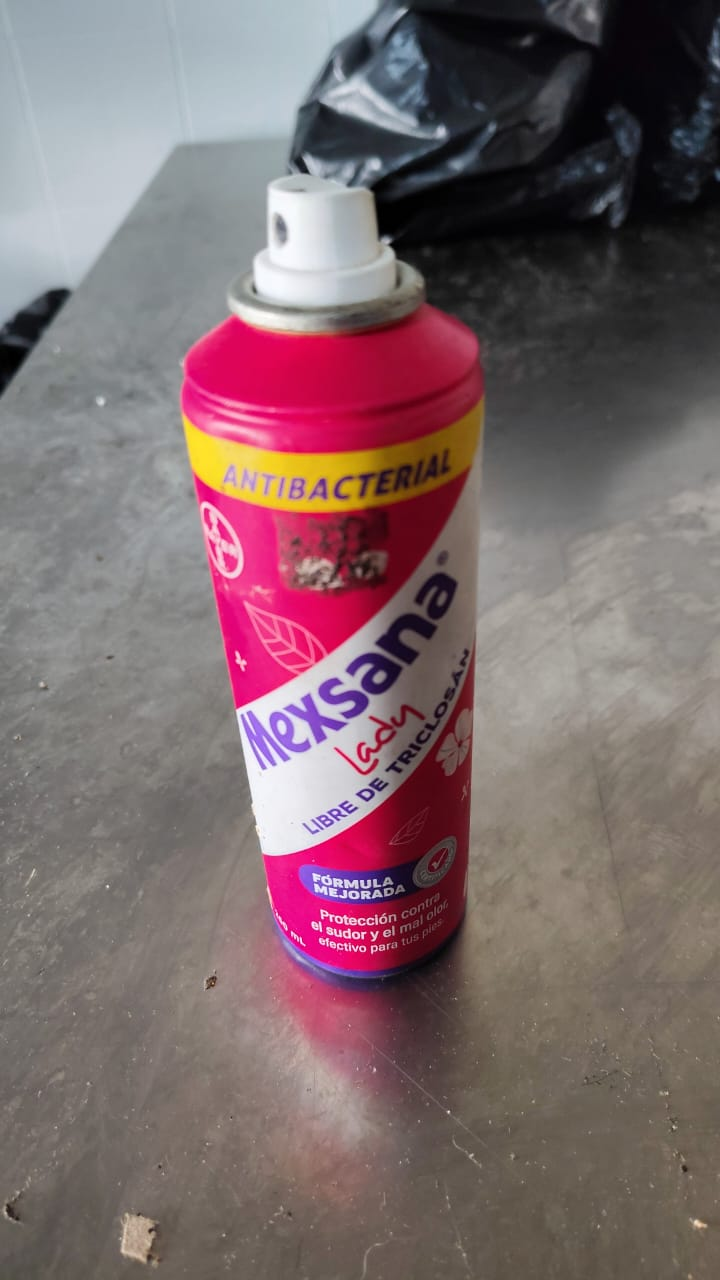Metal: (182, 287, 482, 991)
Plastico: (252, 175, 398, 280)
